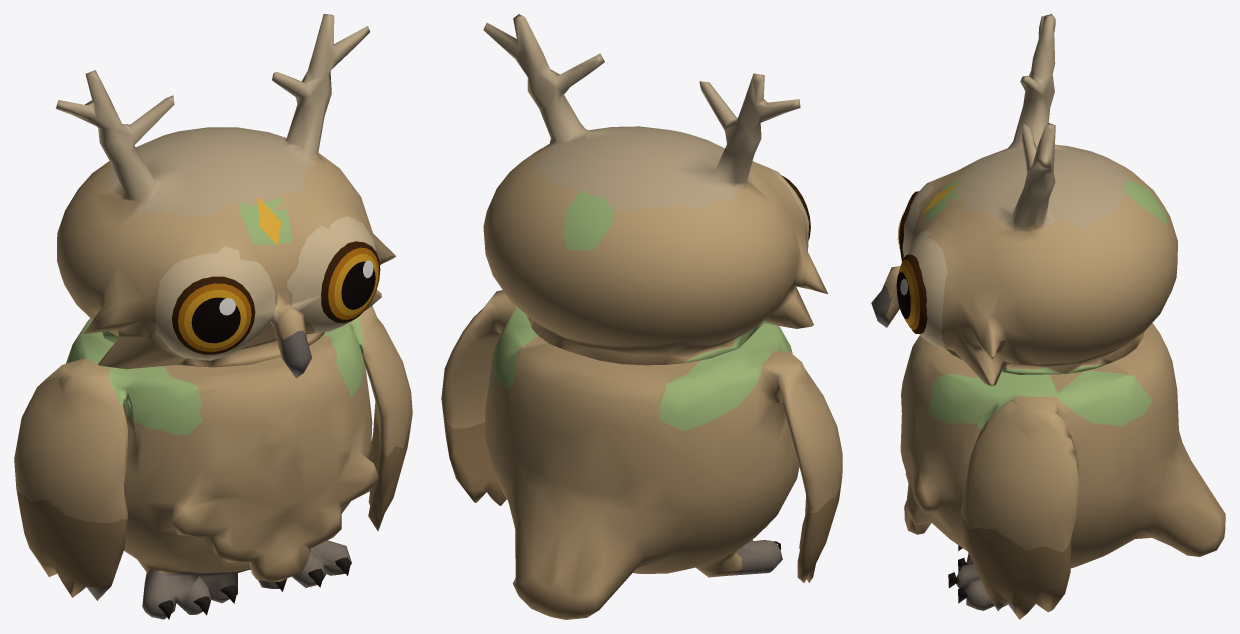
File: cragowl.glb
3 views of the same model, side by side, from view 1: azimuth 30°, elevation 25°; view 2: azimuth 150°, elevation 25°; view 3: azimuth 270°, elevation 25° (orthographic). The views are drawn at different scales.
Visible parts, largest first — view 1: body, eyes; view 2: body; view 3: body, eyes.
Part boxes in pixels (<box>): body: <box>14,14,412,619</box>; eyes: <box>158,196,380,619</box>; body: <box>441,14,842,619</box>; body: <box>871,14,1225,619</box>; eyes: <box>896,183,967,603</box>.
Size of the model in its own units: 0.863 by 1.15 by 0.7422.
